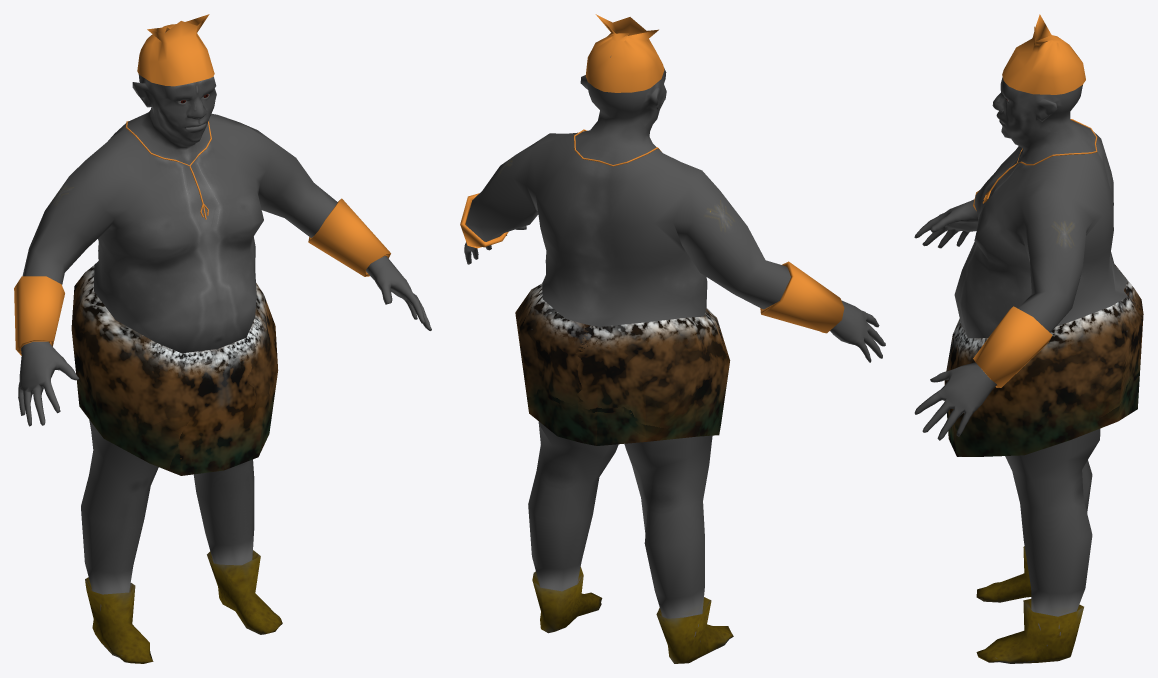
File: cerimonial_guard.dae
3 renders of one model, left to right at view 1: azimuth 30°, elevation 25°; view 2: azimuth 150°, elevation 25°; view 3: azimuth 270°, elevation 25°, orthographic. The views are drawn at different scales.
Parts seen in each view (by area): view 1: body, skirt, bracelet, helmet; view 2: body, skirt, helmet, bracelet; view 3: body, skirt, helmet, bracelet, cord.
Part boxes in pixels (<box>): body: <box>18,32,431,663</box>; skirt: <box>71,265,278,475</box>; bracelet: <box>14,198,390,355</box>; helmet: <box>137,14,214,86</box>; body: <box>464,56,885,663</box>; skirt: <box>515,283,730,445</box>; helmet: <box>585,14,664,92</box>; bracelet: <box>460,193,844,333</box>; body: <box>914,77,1127,663</box>; skirt: <box>944,264,1143,456</box>; helmet: <box>1002,14,1085,94</box>; bracelet: <box>973,190,1052,387</box>; cord: <box>982,119,1097,203</box>.
Bounding box in the file's own units: 1.17 × 0.5849 × 1.7.
Materials: 4 (3 with a texture image).
